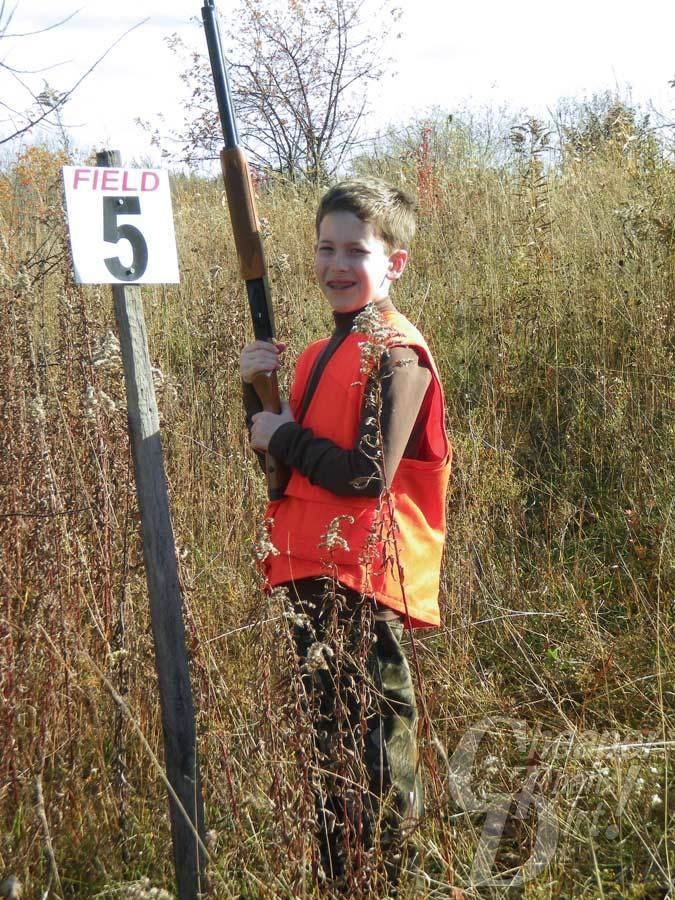person with partial safety: (252, 171, 453, 882)
safety vest: (274, 328, 455, 646)
